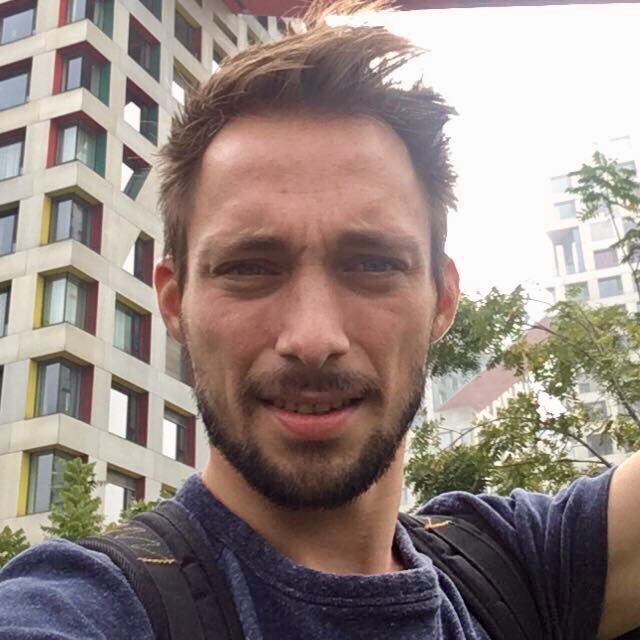NoMask: (206, 213, 423, 501)
